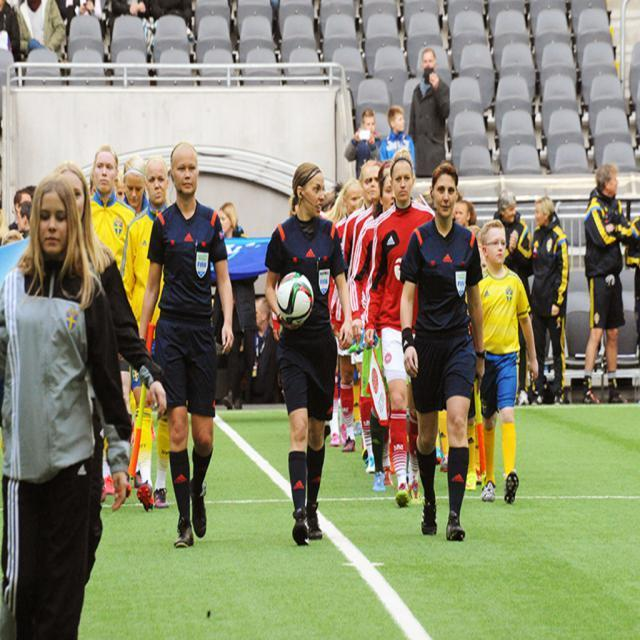football: (268, 269, 322, 345)
